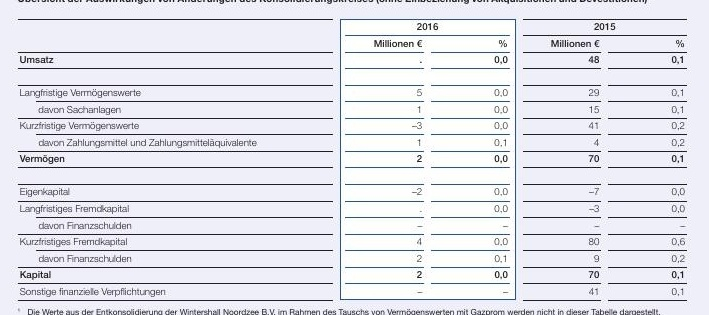table: (0, 0, 709, 315)
